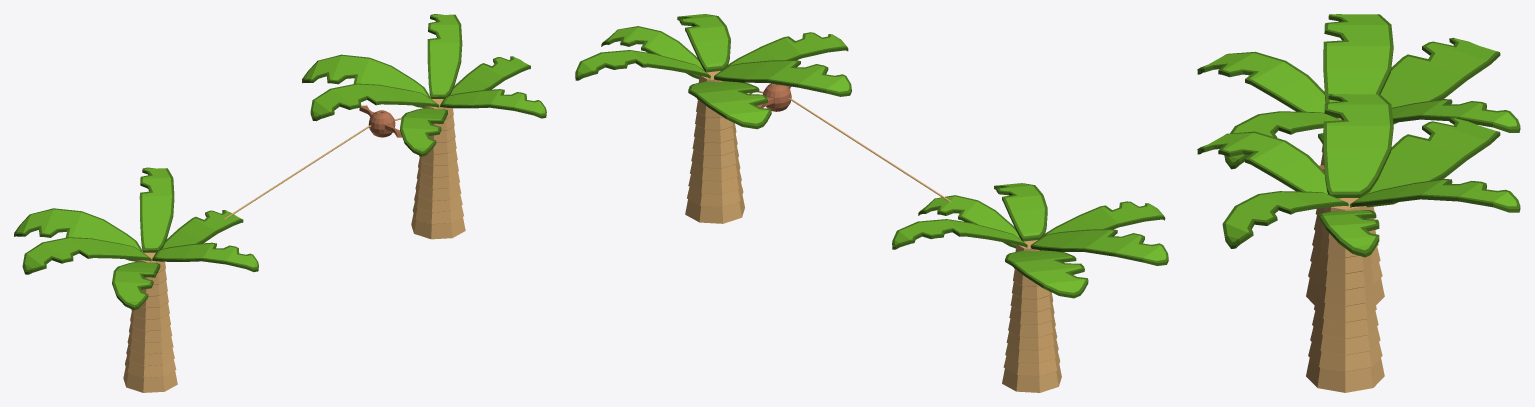
The model's file is palm_zipline_high_short.glb.
3 views of the same model, side by side, from view 1: azimuth 30°, elevation 25°; view 2: azimuth 150°, elevation 25°; view 3: azimuth 270°, elevation 25° (orthographic). The views are drawn at different scales.
Visible parts, largest first — view 1: Zipline-col, HolderRight-col; view 2: Zipline-col, HolderRight-col; view 3: Zipline-col.
Boxes of the visible parts, bbox=[...] form: Zipline-col: bbox=[14, 14, 546, 392]; HolderRight-col: bbox=[359, 105, 401, 137]; Zipline-col: bbox=[575, 14, 1168, 392]; HolderRight-col: bbox=[757, 83, 791, 111]; Zipline-col: bbox=[1197, 14, 1520, 392].
Size of the model in its own units: 15.28 by 6.96 by 6.02.
Materials: 1 (1 with a texture image).
